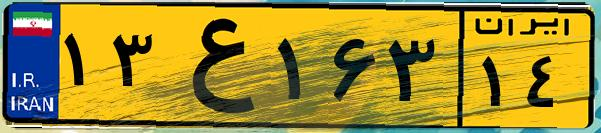1: (270, 28, 330, 110), (57, 26, 110, 100), (475, 38, 525, 113)
3: (385, 28, 445, 110), (110, 28, 158, 98)
4: (525, 38, 570, 115)
6: (330, 28, 385, 110)
ع: (158, 12, 270, 120)
